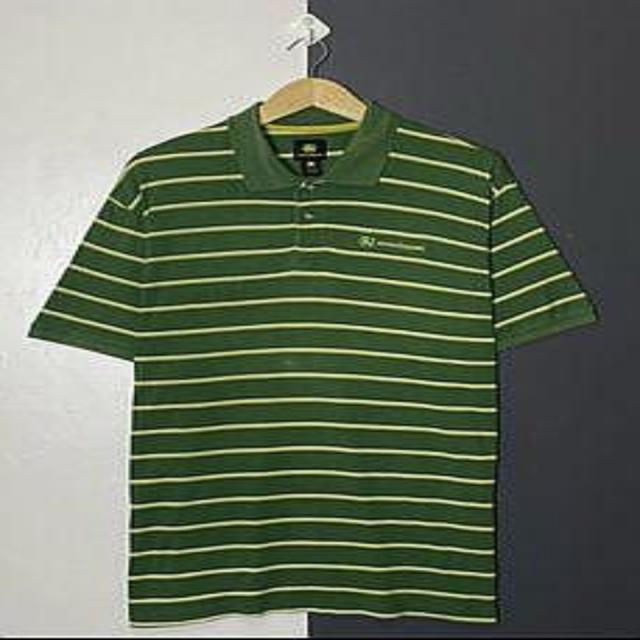T_SHIRT: (18, 88, 618, 631)
